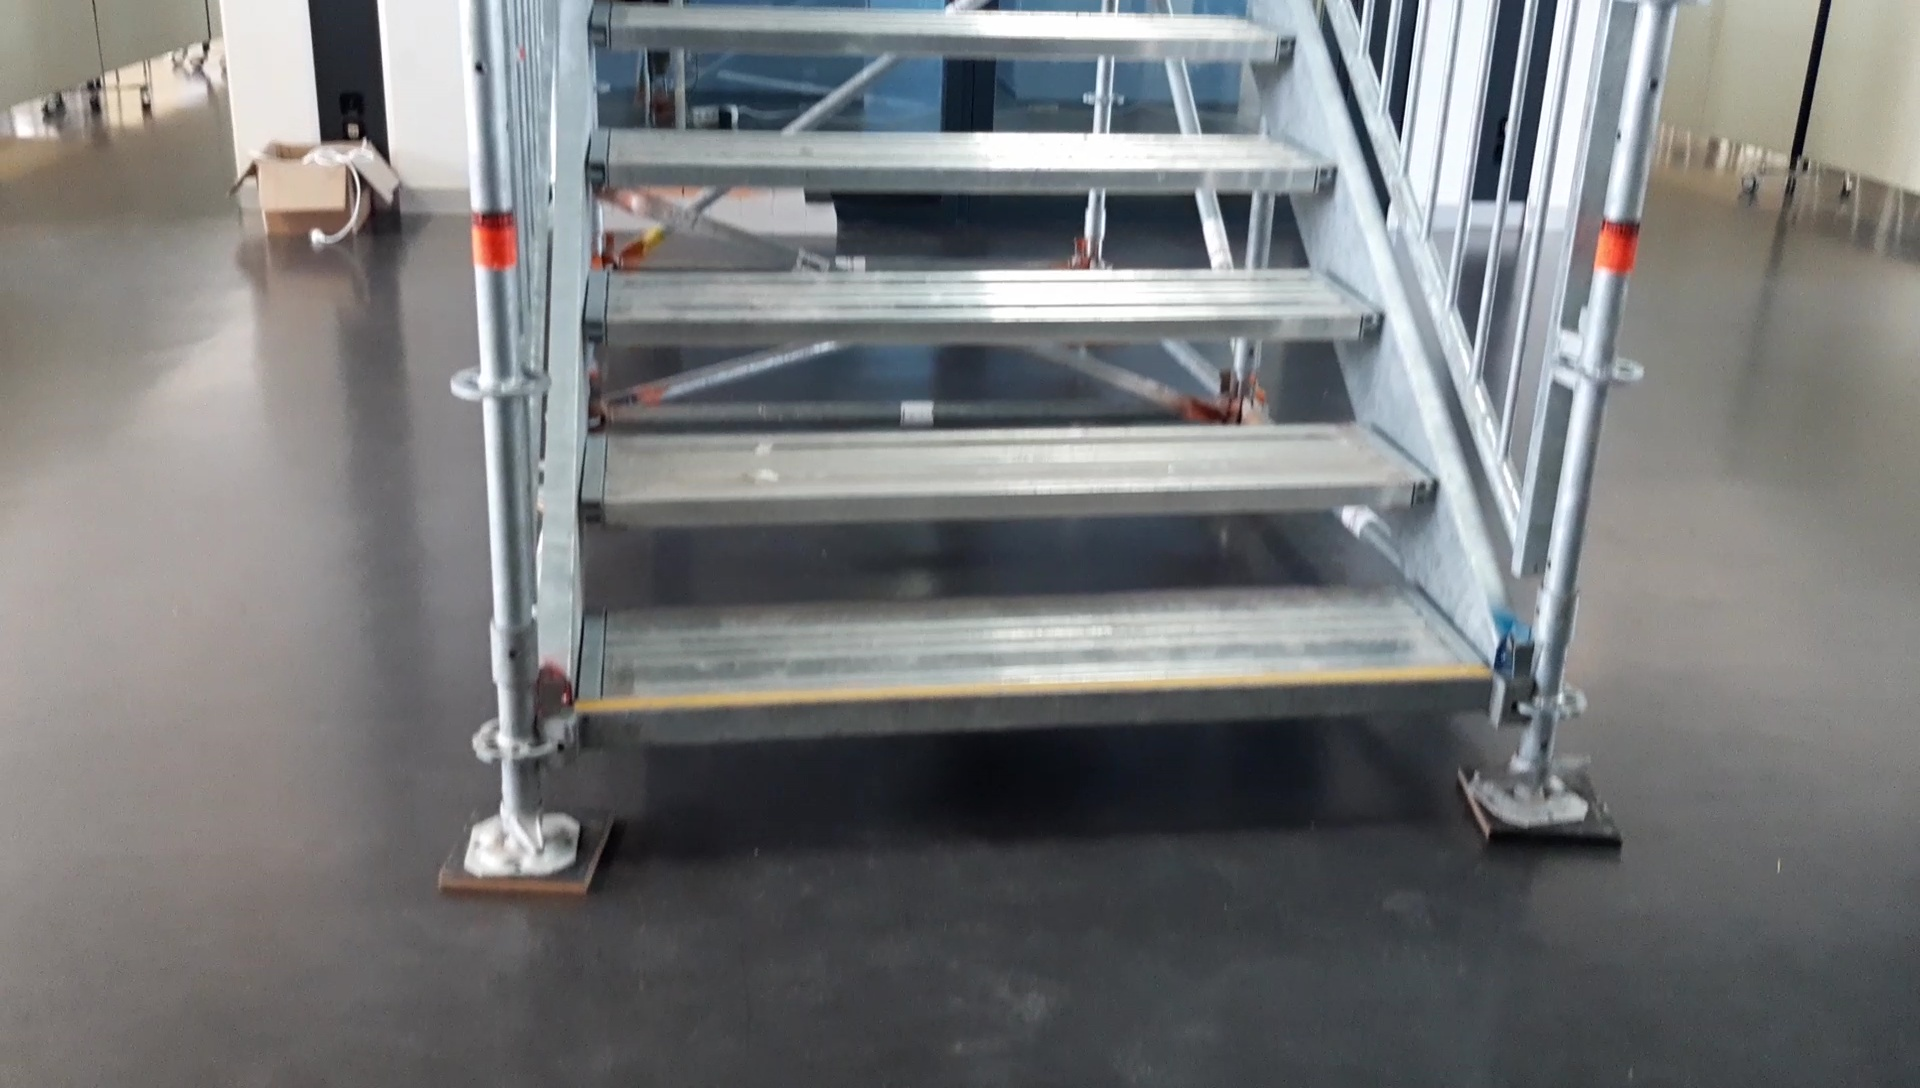brick: (807, 204, 837, 231)
edge: (582, 677, 1493, 742), (575, 480, 1443, 524), (588, 25, 1298, 61), (578, 313, 1385, 343), (585, 160, 1336, 190)
stairs: (433, 7, 1622, 890)
